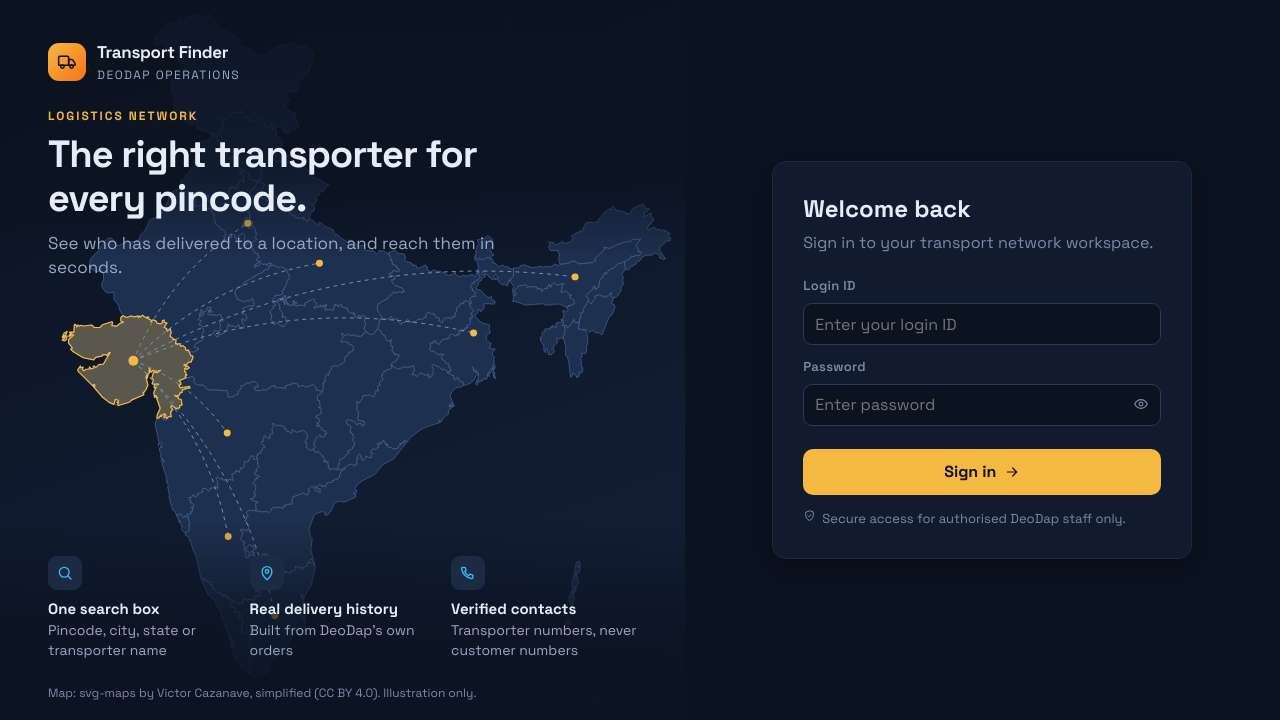
Manage Transporters access is Admin-only › Admin can open Manage Transporters via the nav, and return to Search
The width and height of the screenshot is (1280, 720).
Type "Admin_deodap@123" into the field with placeholder "Enter your login ID".
click(982, 324); type("Admin_deodap@123")  # box [803,303,1161,345]
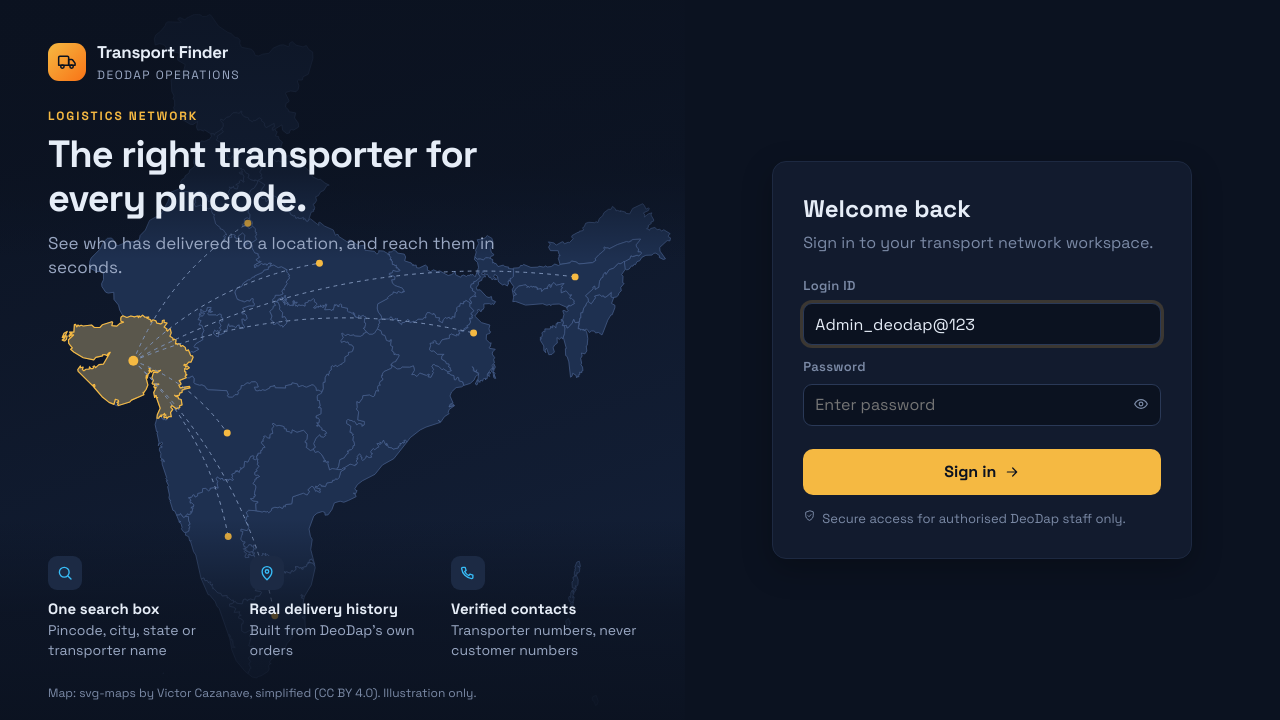
Type "Admin@123" into the password field with placeholder "Enter password".
click(982, 405); type("Admin@123")  # box [803,384,1161,426]
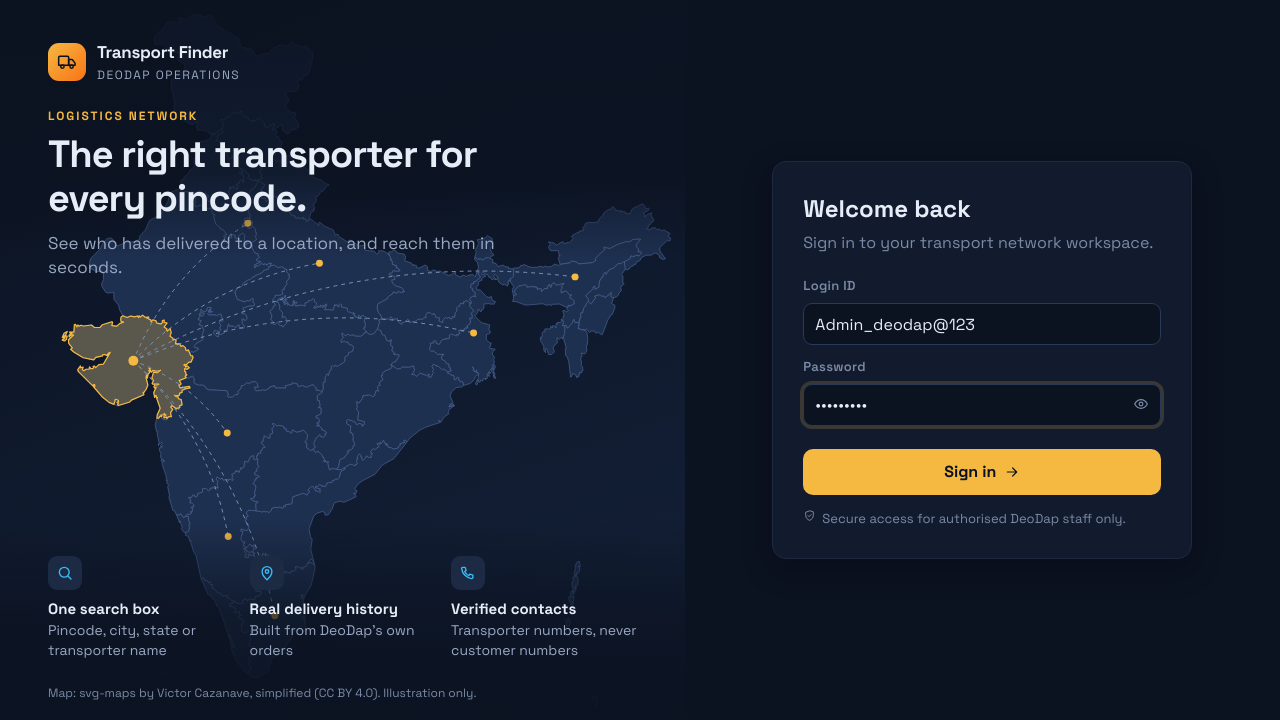
Click the button "Sign in".
click(982, 472)  # box [803,449,1161,495]
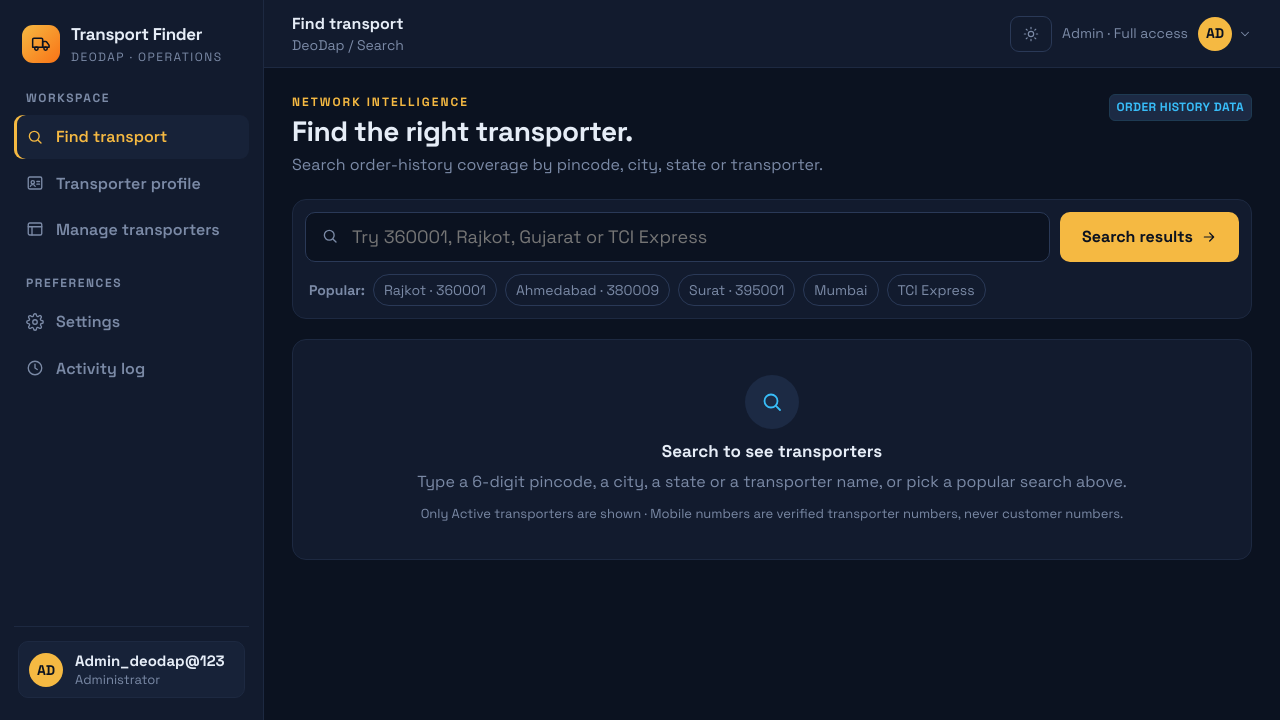
Expected: the heading "Find the right transporter." is shown, [292,113,633,149]
Click the button "Manage transporters".
click(132, 229)  # box [14,208,249,251]
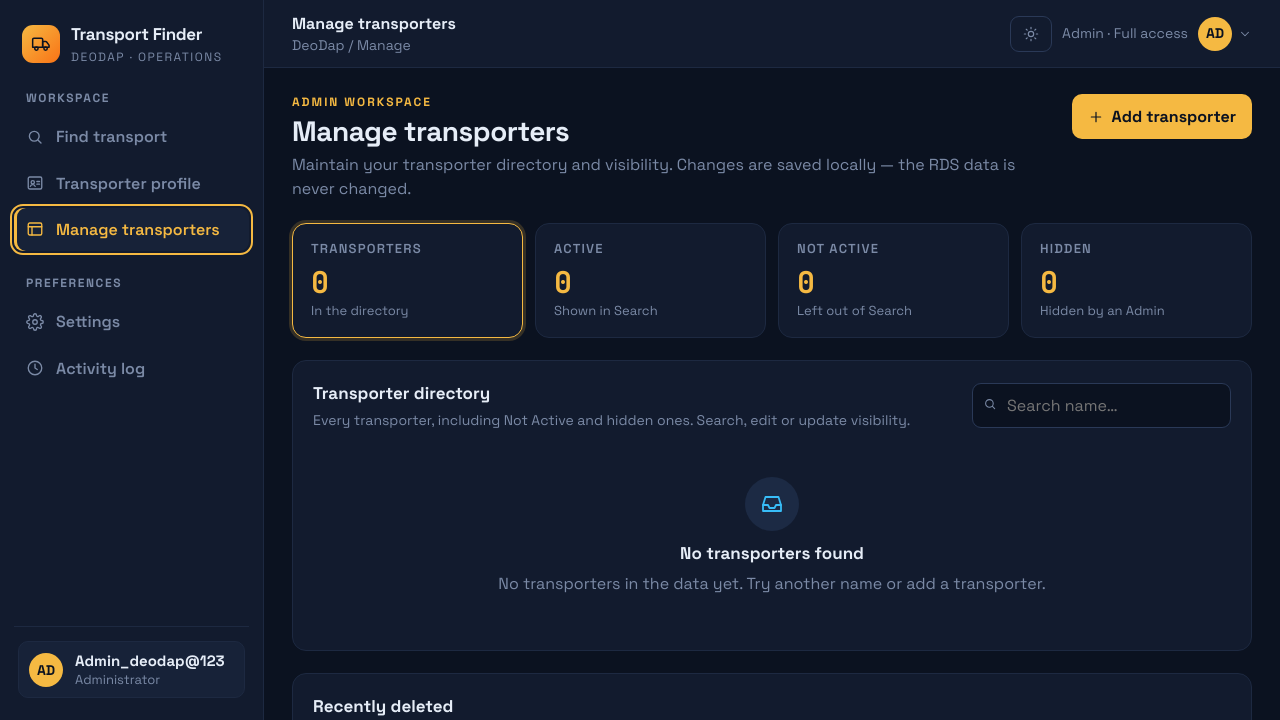
Expected: the heading "Transporter directory" is shown, [313,382,490,404]
Click the button "Find transport".
click(132, 137)  # box [14,115,249,159]
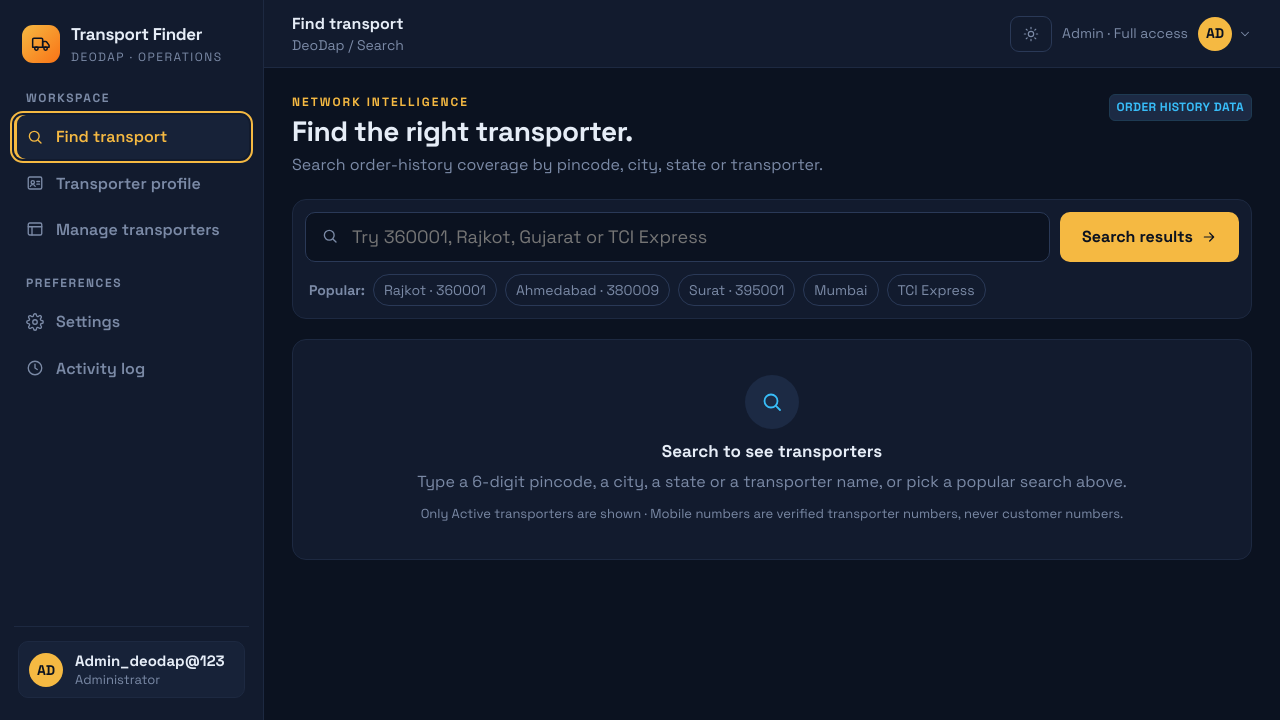
Expected: the heading "Find the right transporter." is shown, [292,113,633,149]
